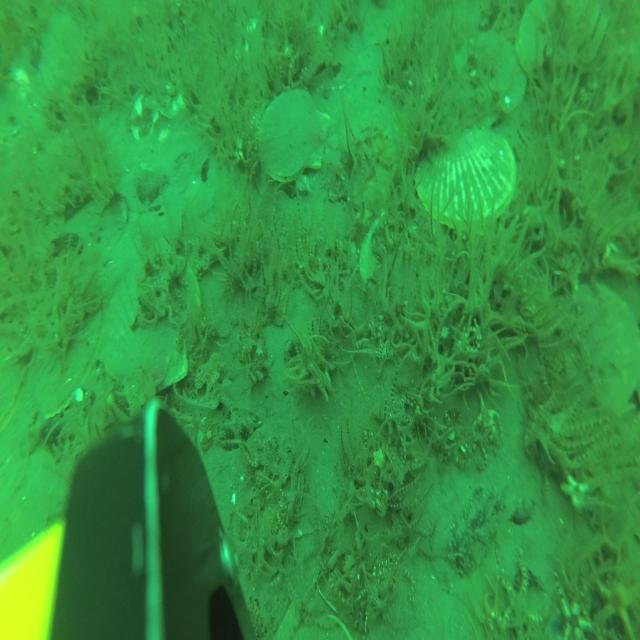scallop: (104, 255, 200, 403), (414, 136, 519, 225), (256, 85, 332, 180), (581, 282, 638, 408), (516, 0, 605, 73)
